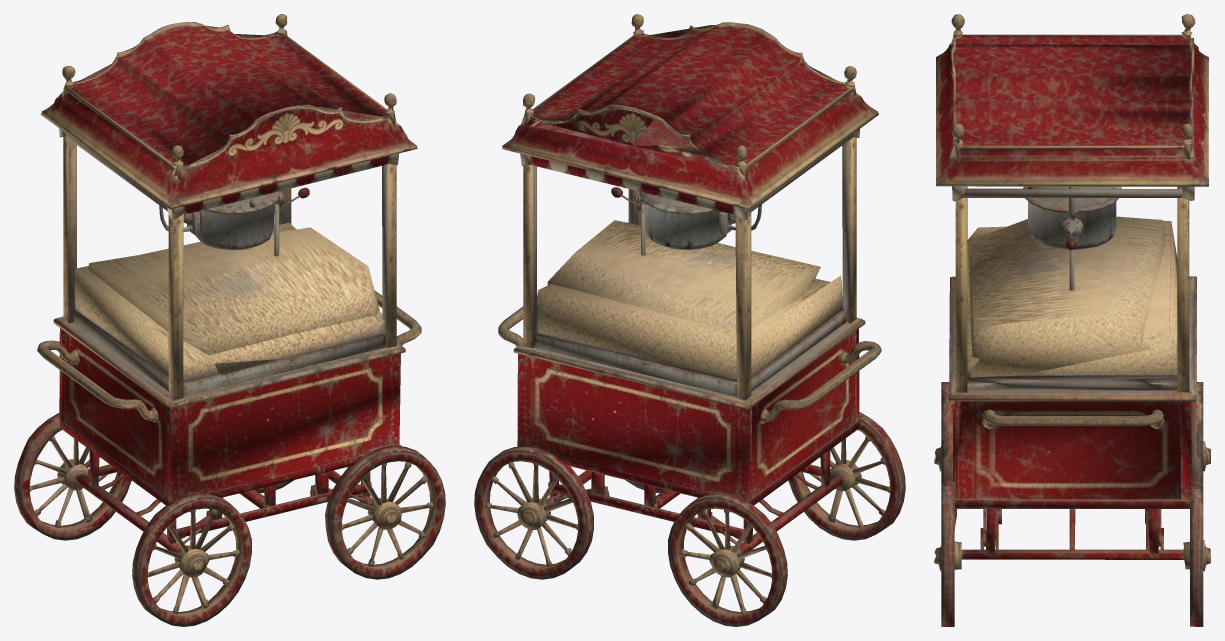
The model's file is skyways-d-cn-popcorn.glb.
3 views of the same model, side by side, from view 1: azimuth 30°, elevation 25°; view 2: azimuth 150°, elevation 25°; view 3: azimuth 270°, elevation 25° (orthographic). The views are drawn at different scales.
Visible parts, largest first — view 1: skyways-d-cn-popcorn; view 2: skyways-d-cn-popcorn; view 3: skyways-d-cn-popcorn.
Boxes of the visible parts, x1,y1,x2,y2 form: skyways-d-cn-popcorn: (14, 14, 445, 626); skyways-d-cn-popcorn: (474, 14, 905, 626); skyways-d-cn-popcorn: (934, 14, 1210, 626).
Size of the model in its own units: 1.07 by 1.6 by 0.7762.
Materials: 1 (1 with a texture image).
